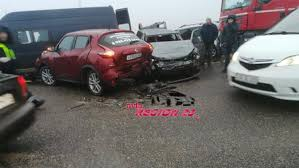car: (41, 35, 150, 93), (137, 26, 206, 81)
